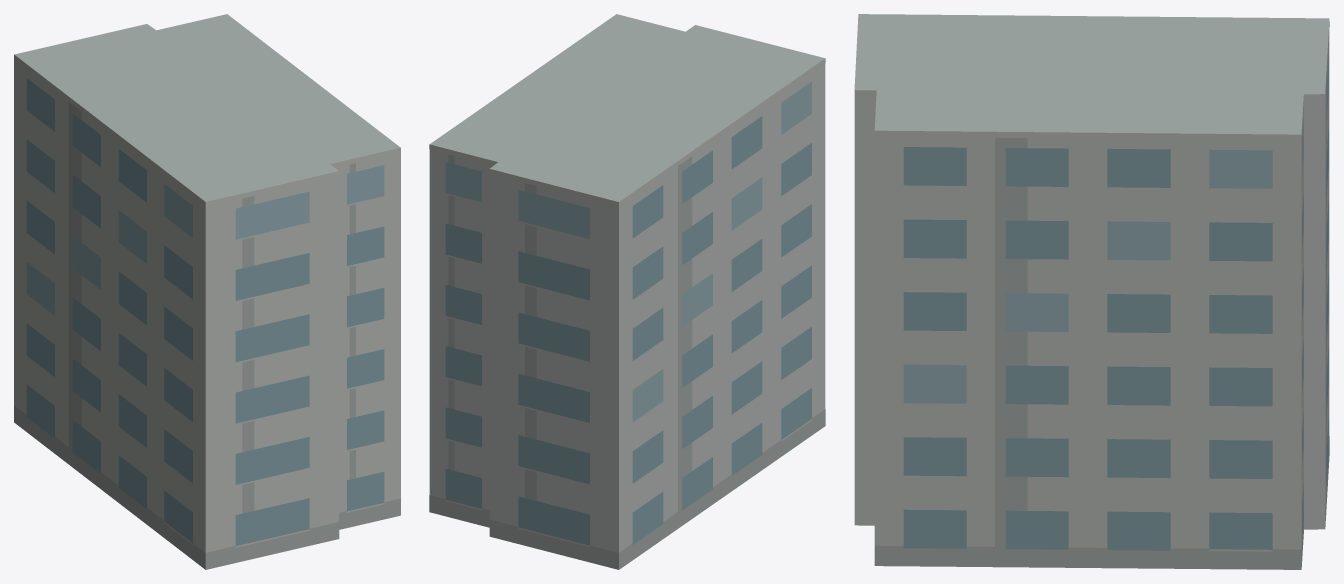
Rendered from survey-upis-32774579.glb.
3 views of the same model, side by side, from view 1: azimuth 30°, elevation 25°; view 2: azimuth 150°, elevation 25°; view 3: azimuth 270°, elevation 25° (orthographic). The views are drawn at different scales.
Parts seen in each view (by area): view 1: survey-upis-32774579.tmp; view 2: survey-upis-32774579.tmp; view 3: survey-upis-32774579.tmp.
Part boxes in pixels (x1,y1,x2,y2): survey-upis-32774579.tmp: [14, 14, 400, 569]; survey-upis-32774579.tmp: [429, 14, 825, 569]; survey-upis-32774579.tmp: [854, 14, 1329, 569].
Bounding box in the file's own units: 10.46 × 17.6 × 17.42.
